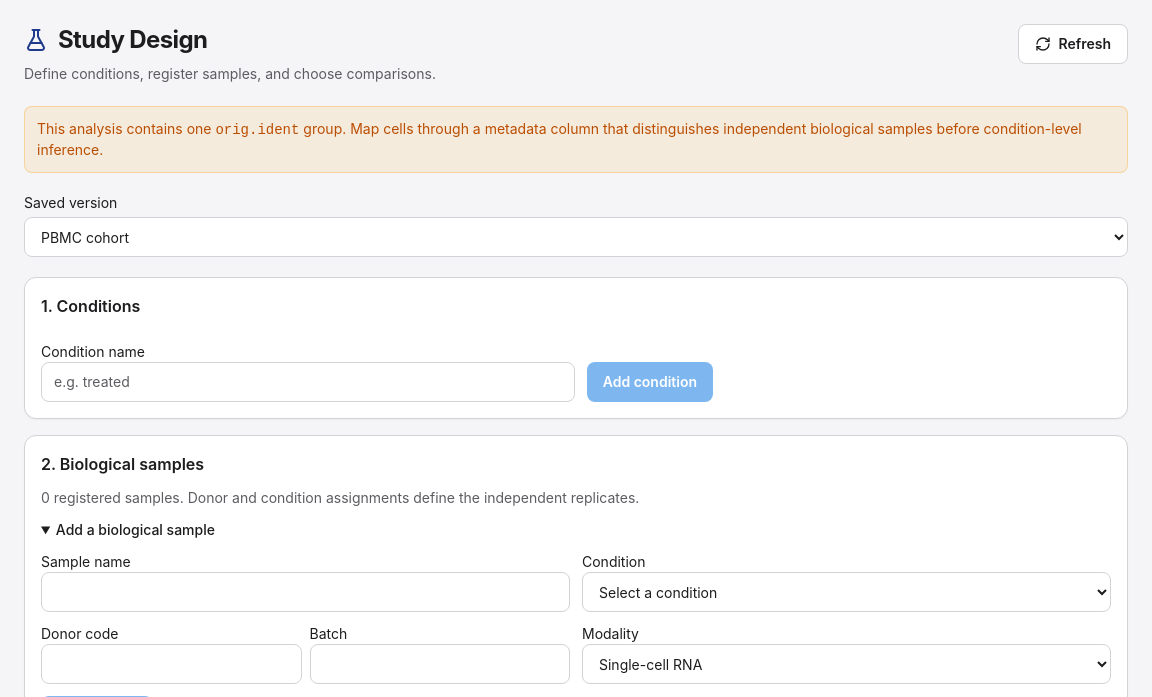
Test: StudyDesign › does not inspect the active R object when the form selects another saved version
Expected: the message is shown, x1=24 y1=106 x2=1128 y2=173
Step 1. Select "Other version" in the dropdown labelled "Saved version" → (576, 237), box x1=24 y1=217 x2=1128 y2=257
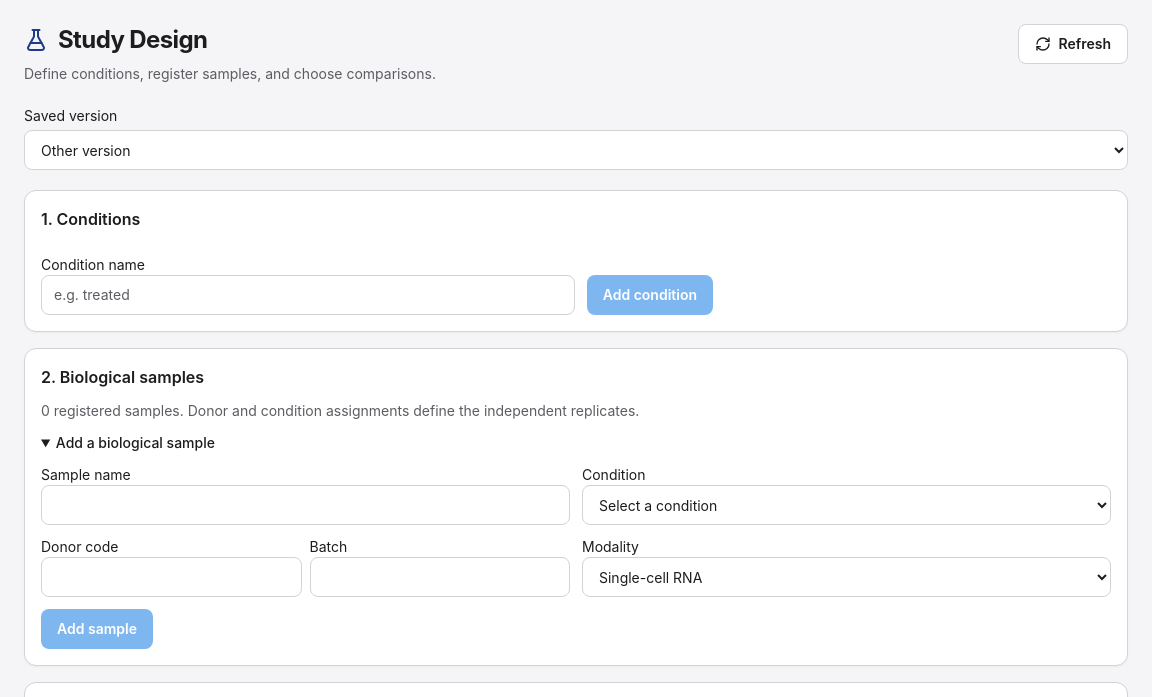
Result: the message is gone
